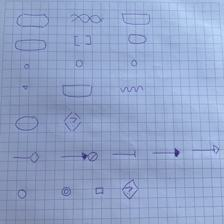association: (17, 189, 27, 199)
complex-sbgn: (15, 12, 49, 27)
control: (12, 151, 40, 164)
degradation: (60, 152, 99, 161)
dissociation: (61, 186, 72, 197)
dsNA: (69, 12, 106, 24)
generic-sbgn: (14, 115, 39, 131)
halfround-rectangle: (62, 84, 93, 98), (120, 11, 150, 24)
inhibition: (112, 150, 137, 158)
macromolecule: (14, 38, 46, 50)
no-glyph-assigned: (73, 34, 91, 46)
process: (95, 187, 104, 195)
protein: (127, 32, 146, 43)
replacement-glyph: (120, 179, 140, 200), (64, 112, 82, 132)
simple-chemical-circle: (23, 62, 30, 69)
simple-chemical-hexagon: (74, 58, 83, 67)
simple-chemical-pentagon: (129, 58, 137, 66)
simple-chemical-triangle: (21, 84, 28, 89)
ssNA: (120, 85, 144, 93)
stimulation: (192, 145, 220, 154)
